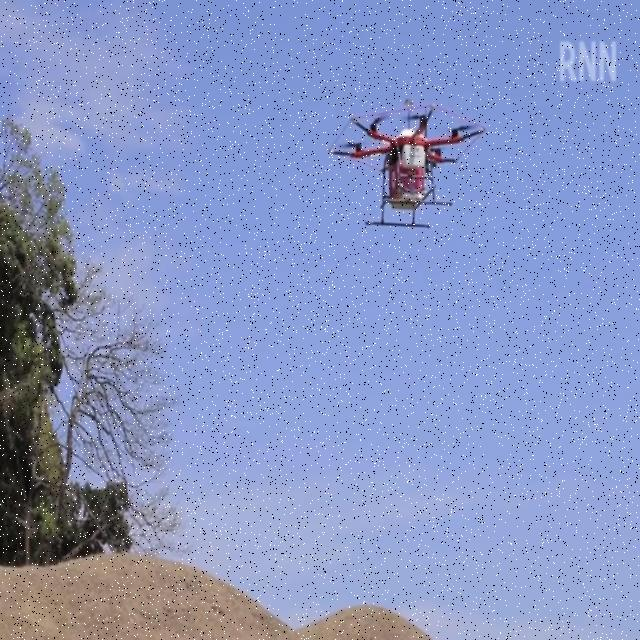UAV: (328, 98, 487, 228)
